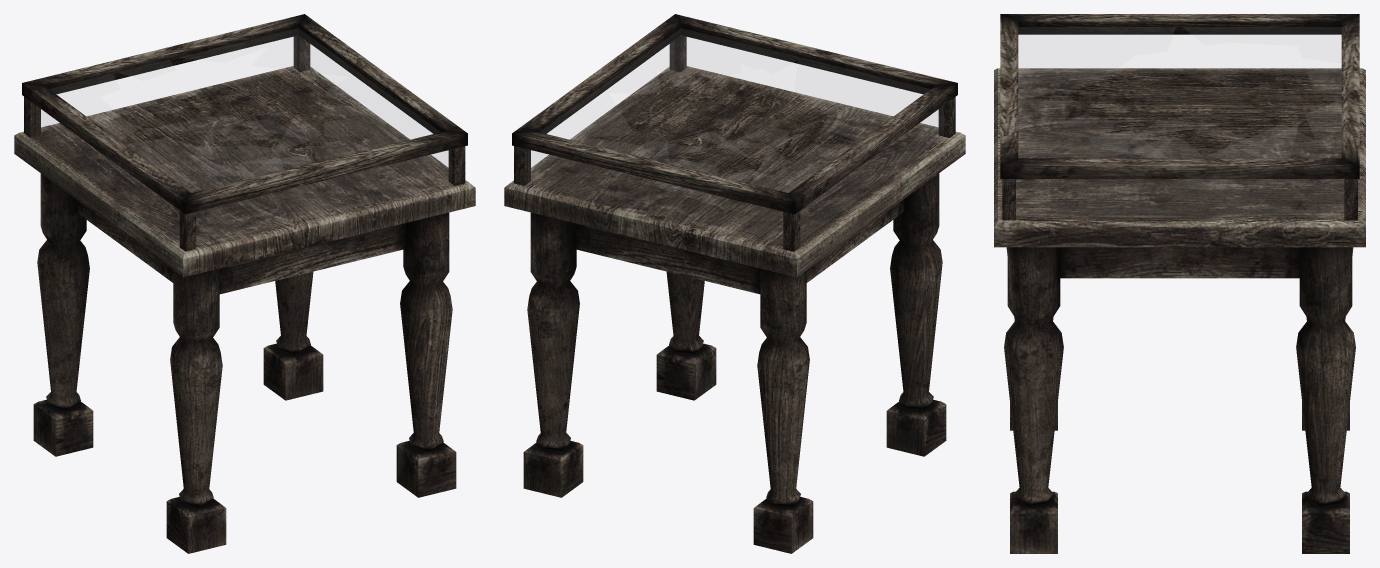
The model's file is display_old_broken.dae.
The picture shows the model from 3 angles, left to right: view 1: azimuth 30°, elevation 25°; view 2: azimuth 150°, elevation 25°; view 3: azimuth 270°, elevation 25°; orthographic projection. The views are drawn at different scales.
Parts seen in each view (by area): view 1: display, display_glas_broken; view 2: display, display_glas_broken; view 3: display, display_glas_broken.
Part boxes in pixels (x1=…): display: x1=14, y1=14, x2=475, y2=553; display_glas_broken: x1=41, y1=36, x2=448, y2=179; display: x1=504, y1=14, x2=965, y2=553; display_glas_broken: x1=531, y1=36, x2=938, y2=205; display: x1=994, y1=14, x2=1365, y2=553; display_glas_broken: x1=1019, y1=35, x2=1340, y2=188.
Bounding box in the file's own units: 0.8 × 0.931 × 0.8.
